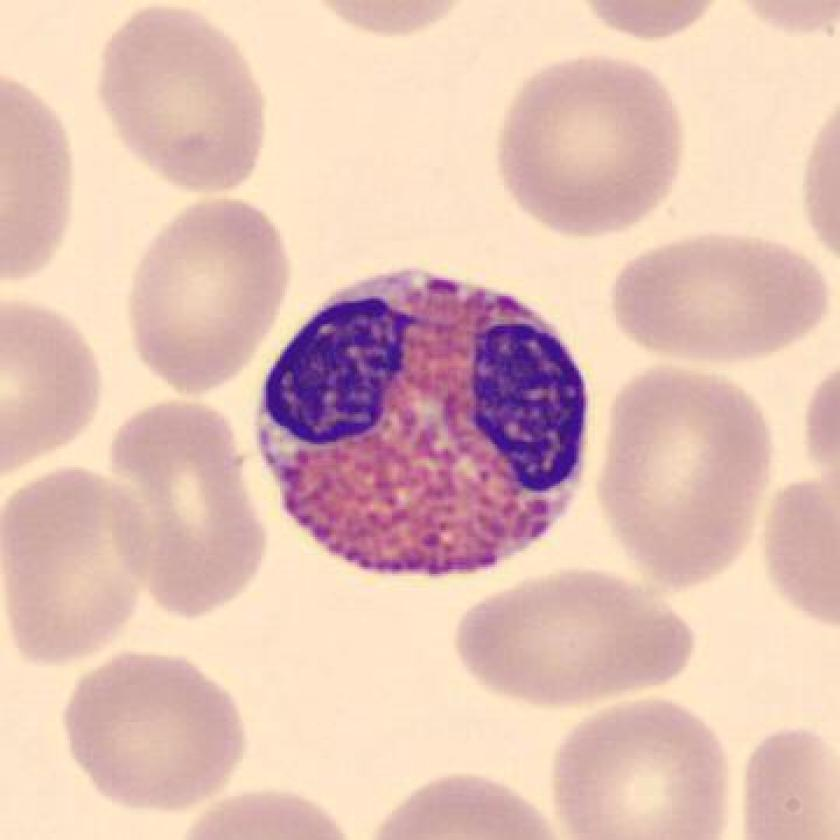eosinophil: (248, 256, 601, 591)
